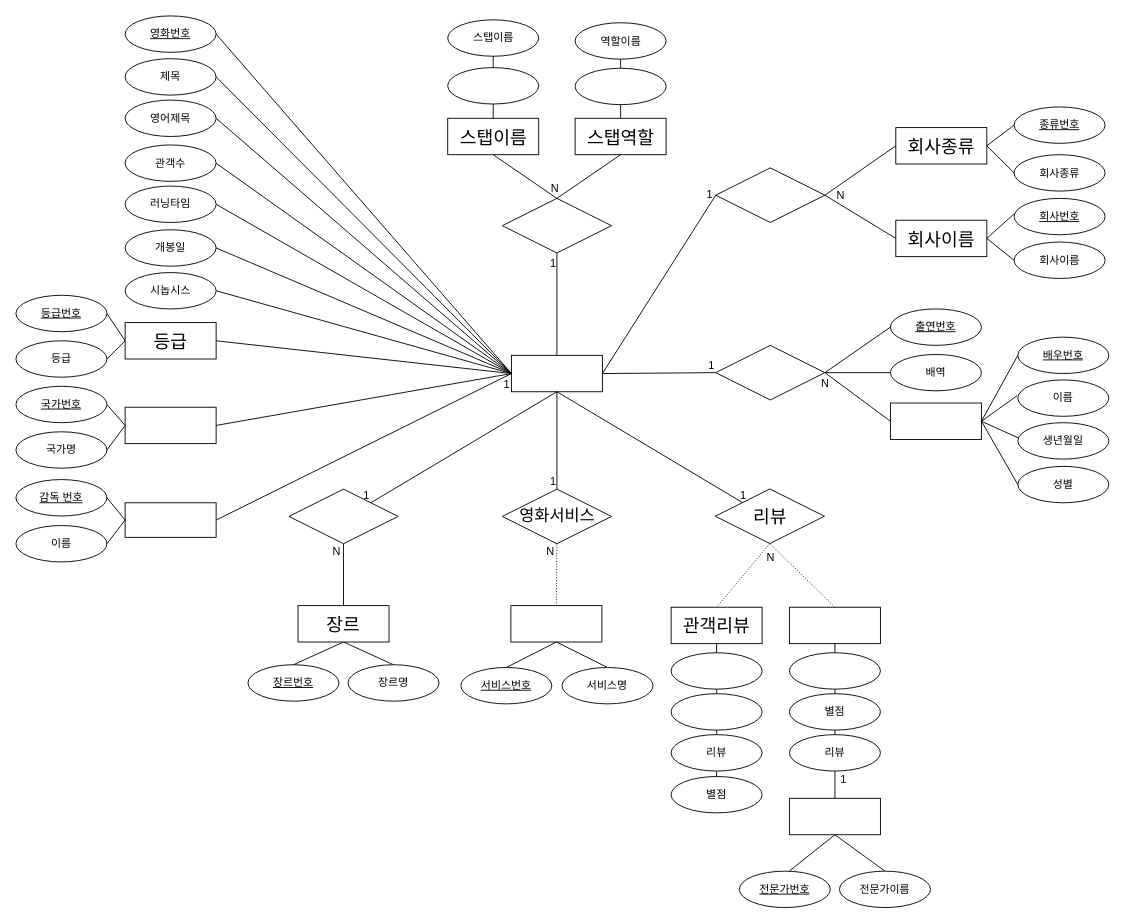
Some shapes in this 1125 by 924 pixel diagram are drawn without their labels. Each missing label, with the centre of its shape:
감독: [170,519]
관객리뷰번호: [716,670]
국가: [170,425]
배우: [935,420]
서비스: [556,623]
스탭: [556,225]
스탭번호: [493,85]
아이디: [716,711]
역할번호: [620,86]
영화: [556,373]
영화장르: [343,516]
전문가: [834,816]
전문가리뷰: [834,625]
전문가리뷰번호: [834,670]
출연: [770,372]
회사: [770,194]
